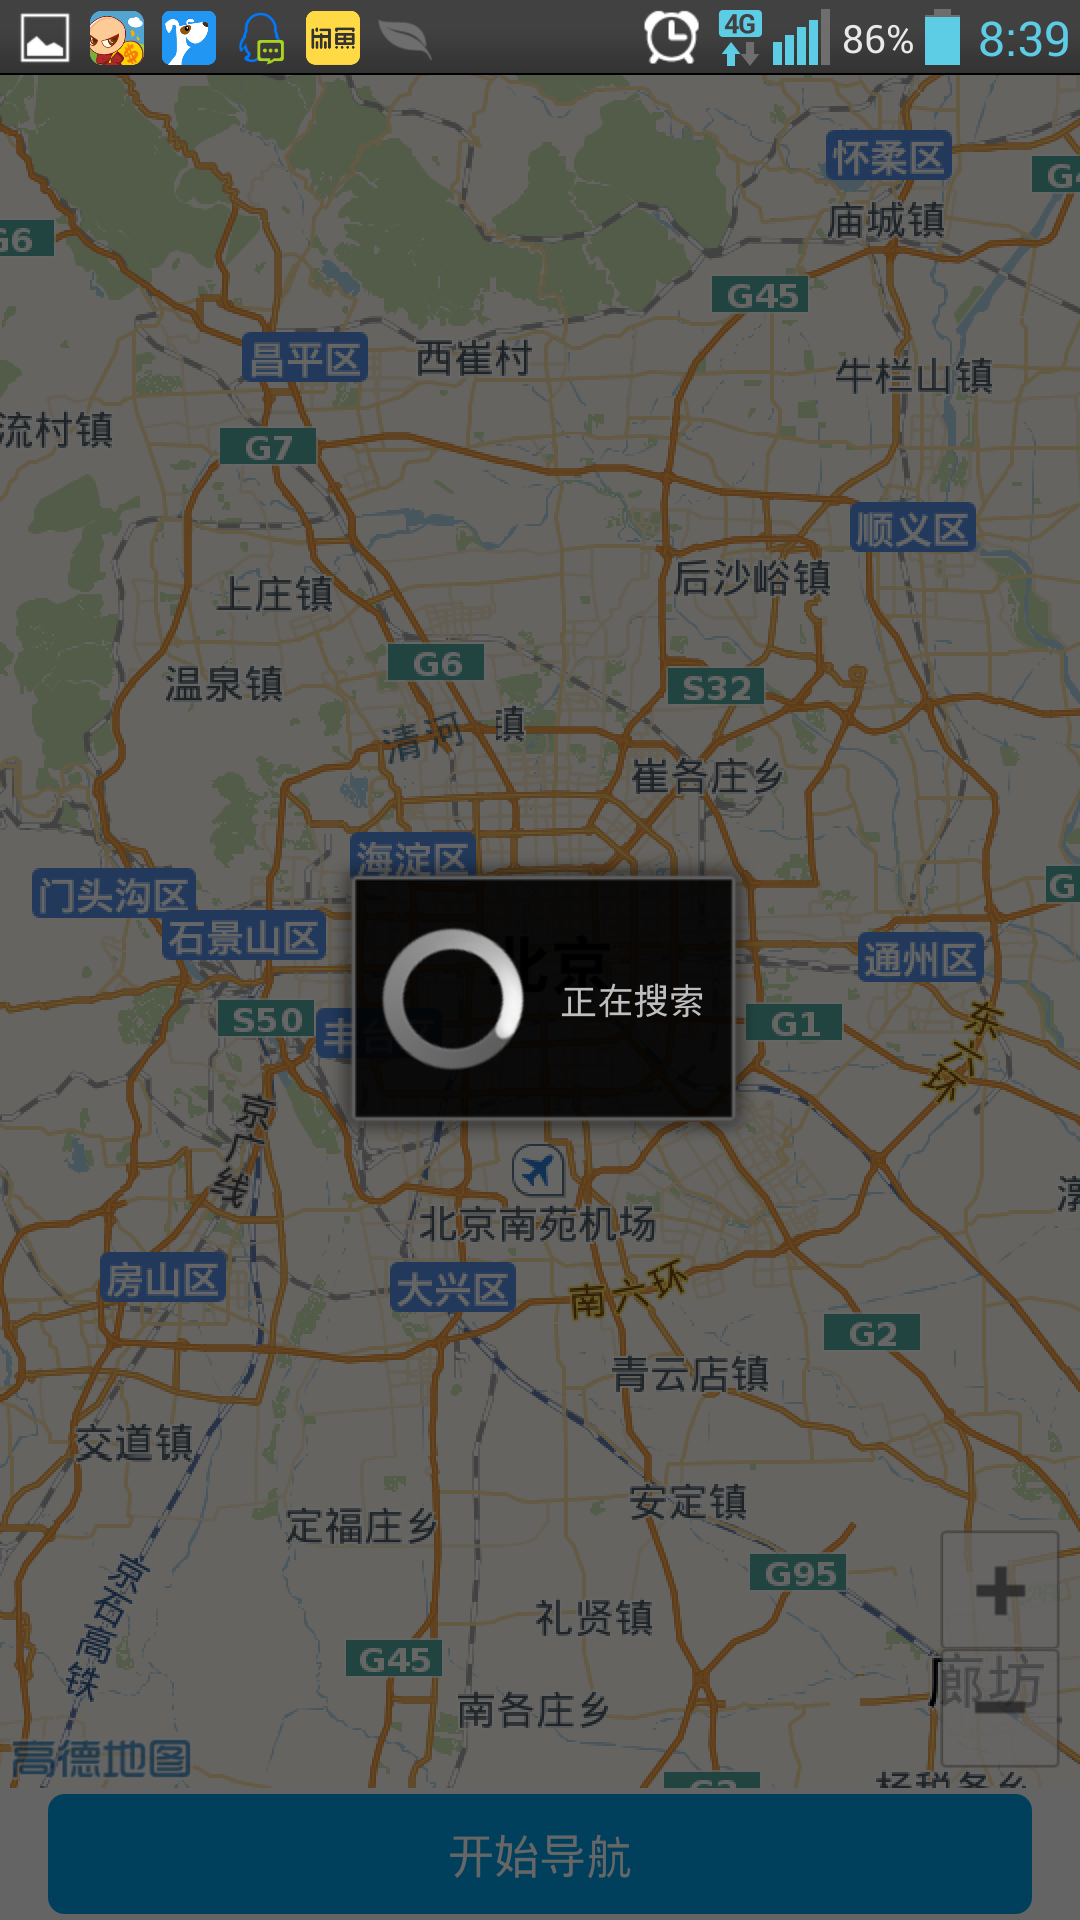alert: (328, 862, 749, 1133)
